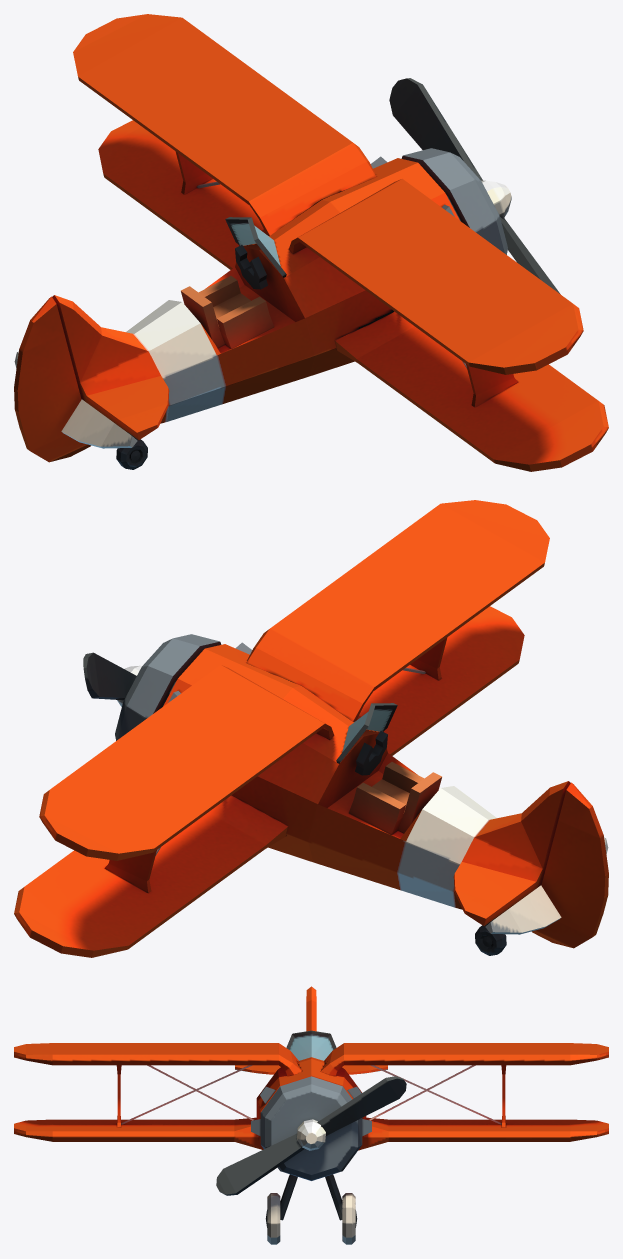
Rendered from PUSHILIN_Plane.glb.
The picture shows the model from 3 angles, top to bottom: view 1: azimuth 30°, elevation 25°; view 2: azimuth 150°, elevation 25°; view 3: azimuth 270°, elevation 25°; orthographic projection. The views are drawn at different scales.
Visible parts, largest first — view 1: PUSHILIN_Plane_Circle.000; view 2: PUSHILIN_Plane_Circle.000; view 3: PUSHILIN_Plane_Circle.000.
Part boxes in pixels (box(x1,y1,x2,y2)): PUSHILIN_Plane_Circle.000: box(14, 14, 608, 471); PUSHILIN_Plane_Circle.000: box(14, 500, 608, 957); PUSHILIN_Plane_Circle.000: box(14, 986, 608, 1244).
Bounding box in the file's own units: 2.43 × 1.21 × 3.78.
Materials: 1 (1 with a texture image).
